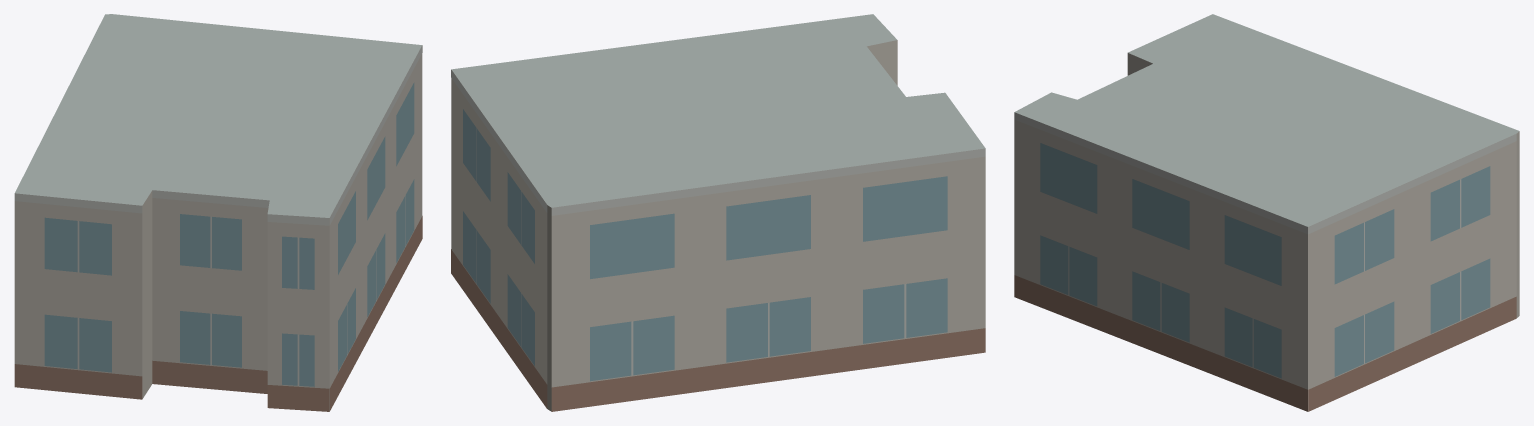
The model's file is survey-upis-32769683.glb.
3 views of the same model, side by side, from view 1: azimuth 30°, elevation 25°; view 2: azimuth 150°, elevation 25°; view 3: azimuth 270°, elevation 25° (orthographic). The views are drawn at different scales.
Parts seen in each view (by area): view 1: survey-upis-32769683.tmp; view 2: survey-upis-32769683.tmp; view 3: survey-upis-32769683.tmp.
Part boxes in pixels (<box>): survey-upis-32769683.tmp: <box>14,14,422,411</box>; survey-upis-32769683.tmp: <box>451,14,985,411</box>; survey-upis-32769683.tmp: <box>1014,14,1519,411</box>.
Bounding box in the file's own units: 15.08 × 6.1 × 15.12.
